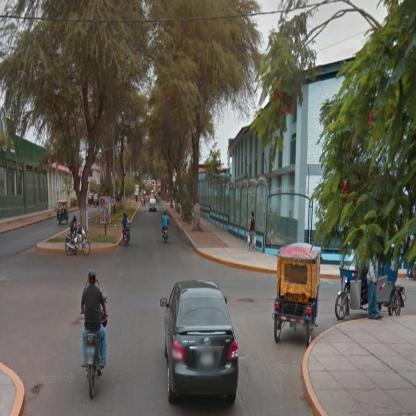Moto: (81, 266, 110, 400), (67, 219, 91, 258), (123, 213, 133, 248), (162, 213, 170, 245)
Obstaculo: (237, 299, 265, 307)
Peaton: (249, 213, 257, 250)
Vehiculo: (162, 280, 239, 402), (335, 241, 408, 320), (274, 241, 322, 351), (57, 198, 71, 226), (150, 199, 159, 212)
